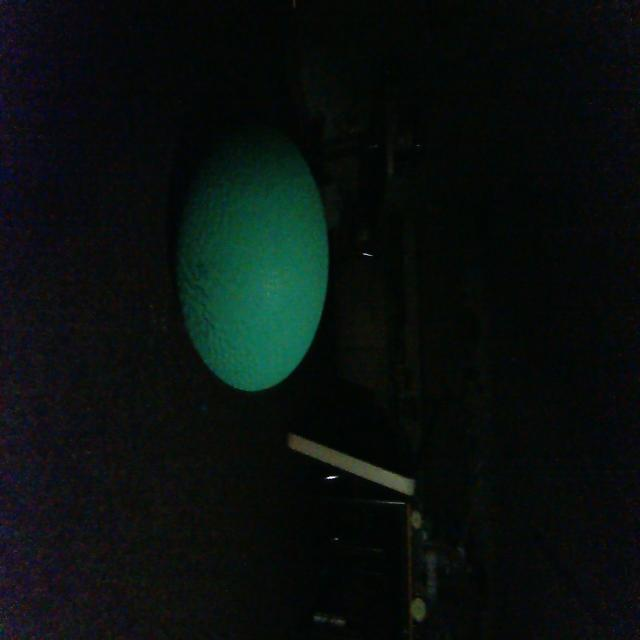algae: (172, 117, 332, 399)
